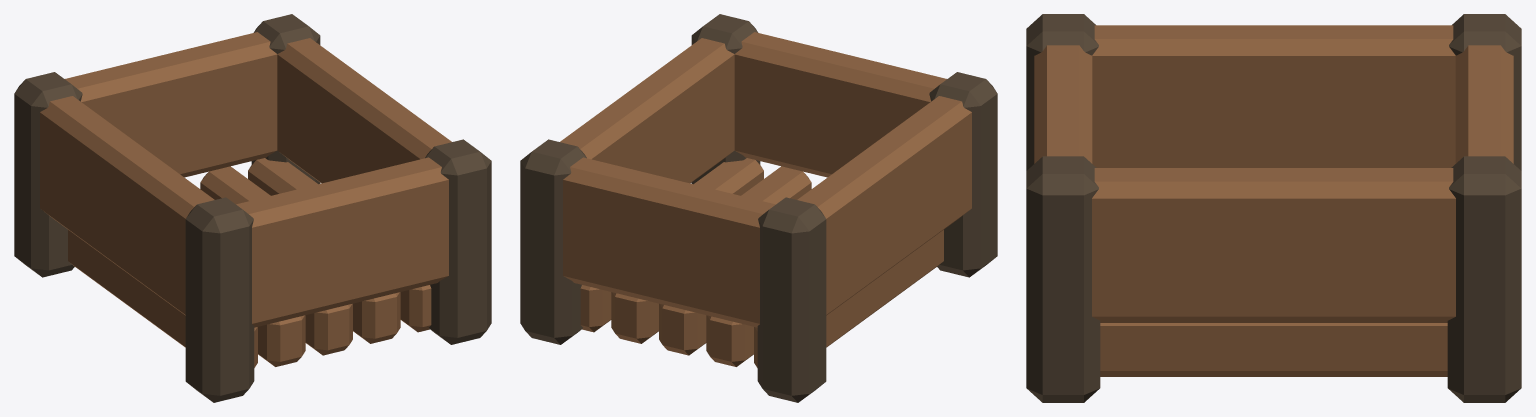
Rendered from Bait_Box_A.glb.
The picture shows the model from 3 angles, left to right: view 1: azimuth 30°, elevation 25°; view 2: azimuth 150°, elevation 25°; view 3: azimuth 270°, elevation 25°; orthographic projection. The views are drawn at different scales.
Parts seen in each view (by area): view 1: Bait_Box_A; view 2: Bait_Box_A; view 3: Bait_Box_A.
Boxes of the visible parts, x1,y1,x2,y2 form: Bait_Box_A: (14,14,491,402); Bait_Box_A: (520,14,997,402); Bait_Box_A: (1026,14,1521,402).
Bounding box in the file's own units: 0.39 × 0.24 × 0.47.
